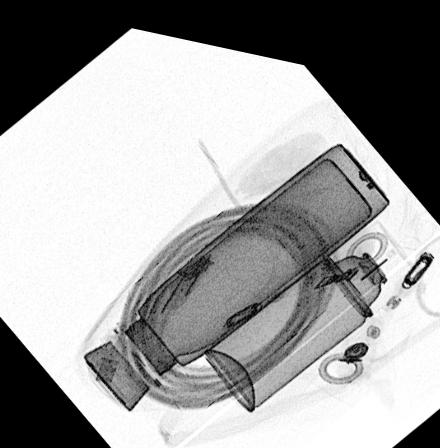Sprayer: (201, 202, 425, 402)
